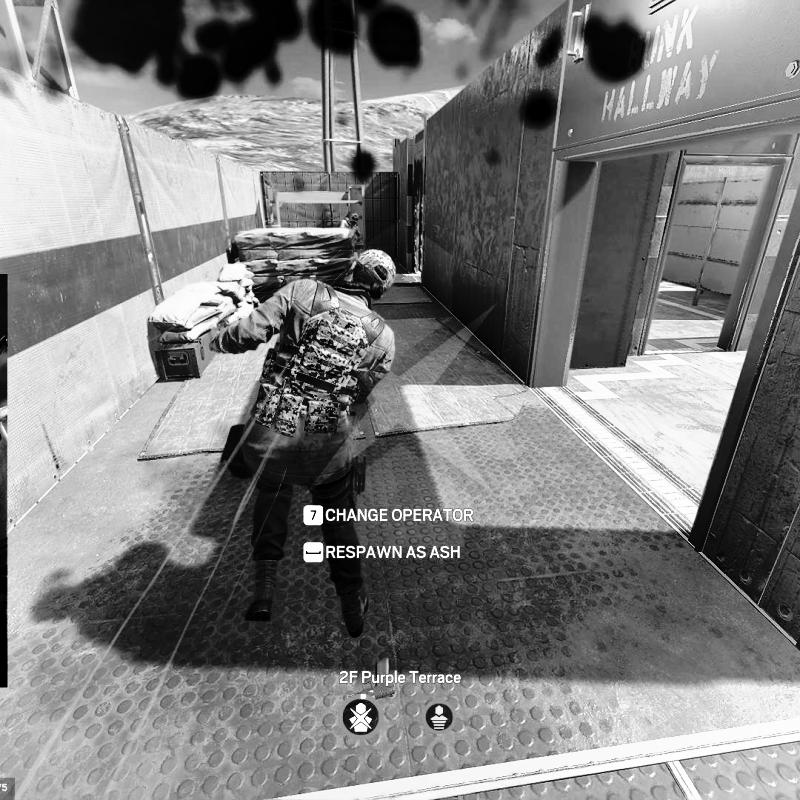Character: (205, 247, 400, 641), (340, 212, 362, 244)
Head: (344, 248, 400, 303), (348, 213, 360, 226)
